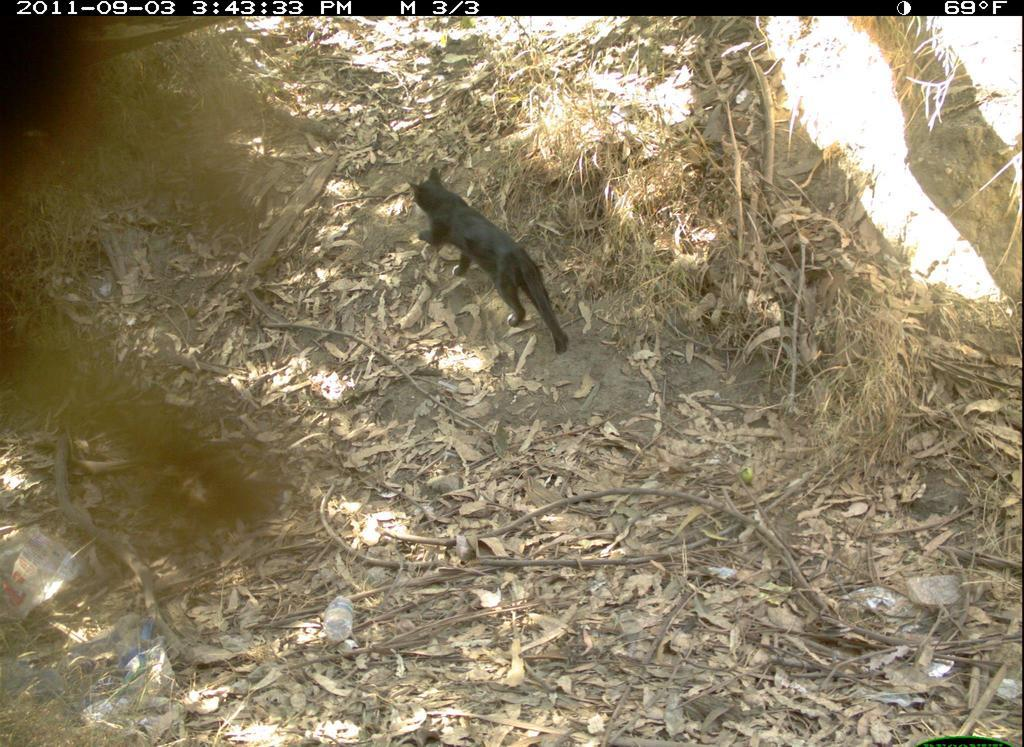cat: (405, 167, 578, 361)
